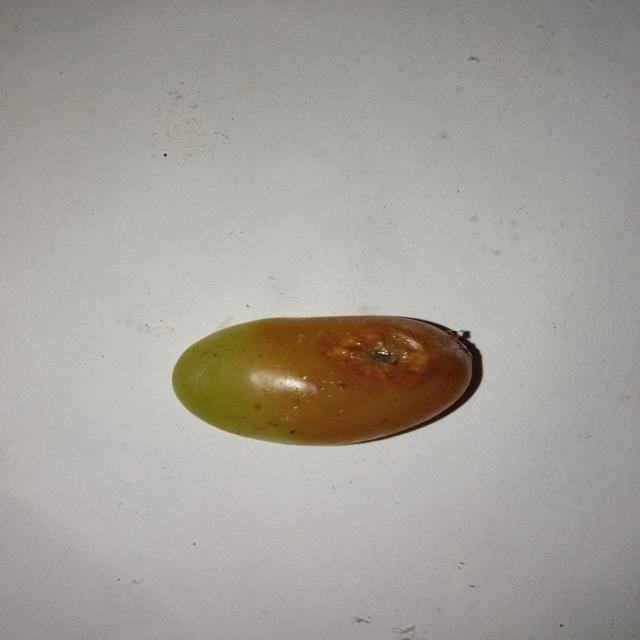rotten_grape: (165, 312, 476, 447)
